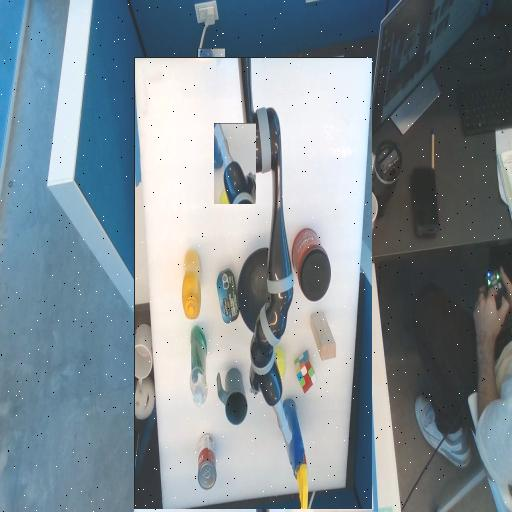bowl: (218, 232, 268, 318)
cleanser: (300, 162, 316, 241)
coffee_can: (176, 267, 214, 338)
jaco: (215, 124, 256, 204)
meat_can: (267, 261, 289, 283)
mug: (258, 156, 289, 186)
mustard_bottle: (305, 249, 324, 317)
rubik: (190, 174, 212, 217)
soup_can: (290, 78, 308, 133)
tennis_ball: (221, 195, 238, 212)
windex: (198, 49, 225, 167)
wooden_block: (170, 219, 195, 244)
workspace: (134, 58, 372, 509)
